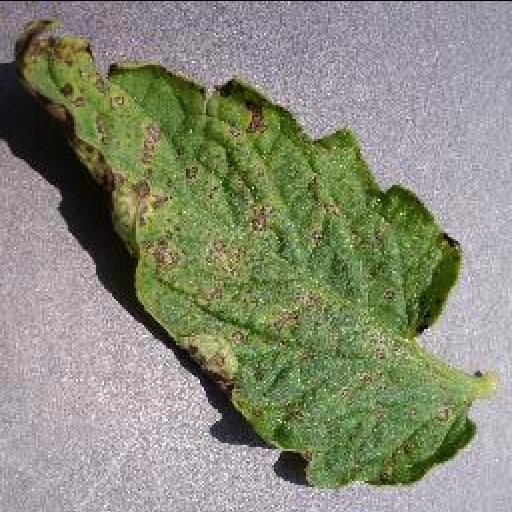disease_tomato: (12, 17, 476, 489)
